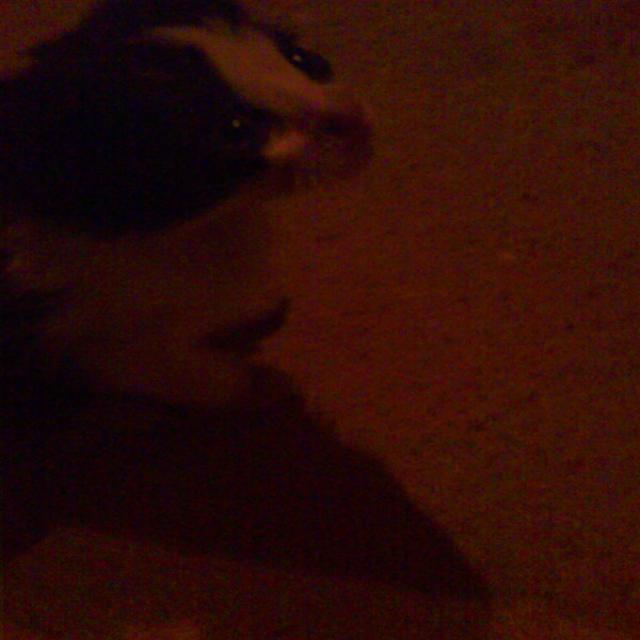Cat: (6, 5, 376, 454)
